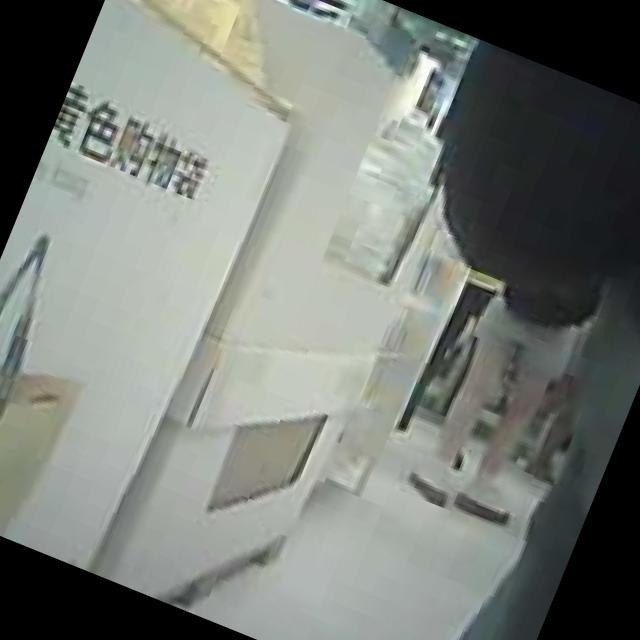person: (422, 246, 640, 640), (398, 254, 594, 536)
